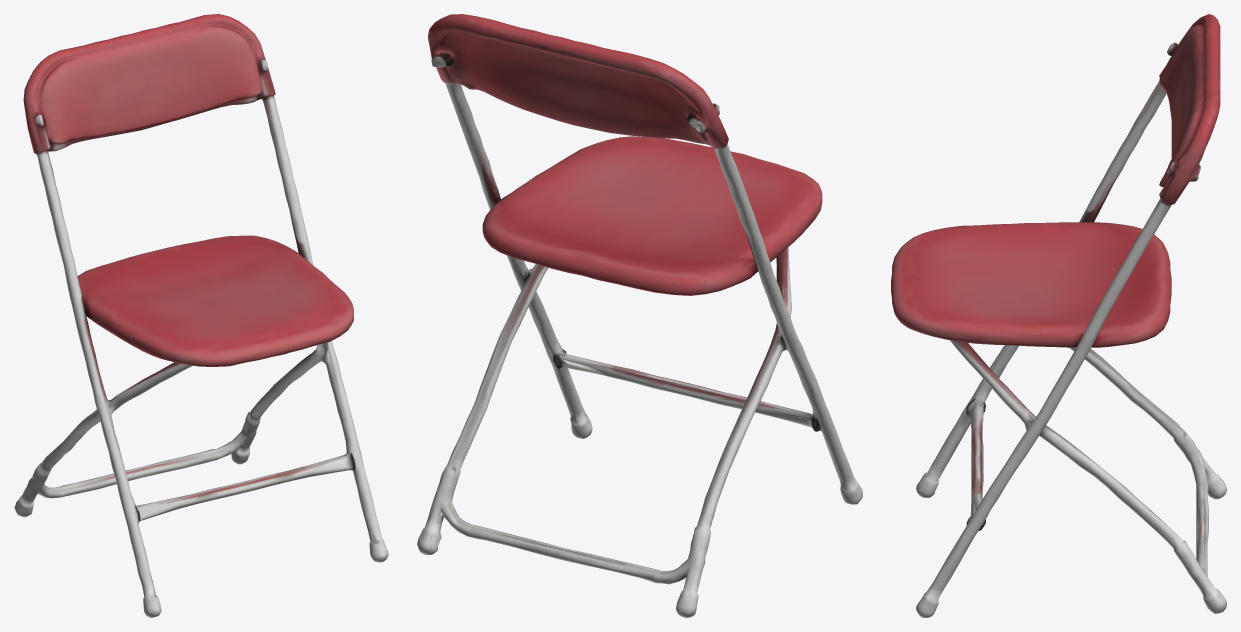
Rendered from Chair_Folding_Burgun_0320032004_texture.glb.
The picture shows the model from 3 angles, left to right: view 1: azimuth 30°, elevation 25°; view 2: azimuth 150°, elevation 25°; view 3: azimuth 270°, elevation 25°; orthographic projection. The views are drawn at different scales.
Visible parts, largest first — view 1: Mesh_0.006; view 2: Mesh_0.006; view 3: Mesh_0.006.
Boxes of the visible parts, x1,y1,x2,y2 form: Mesh_0.006: (14,14,388,617); Mesh_0.006: (417,14,862,617); Mesh_0.006: (891,14,1226,617).
Bounding box in the file's own units: 0.5013 × 0.9144 × 0.5577.
1 material, 1 textured.
